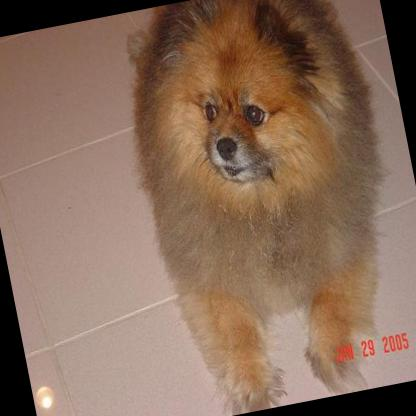Pomeranian: (105, 0, 416, 416)
